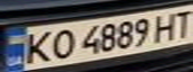4: (78, 21, 103, 55)
8: (96, 20, 121, 53), (115, 17, 139, 51)
9: (130, 16, 157, 47)
H: (148, 10, 181, 43)
K: (18, 28, 57, 65)
O: (45, 26, 78, 61)
T: (166, 7, 193, 39)
